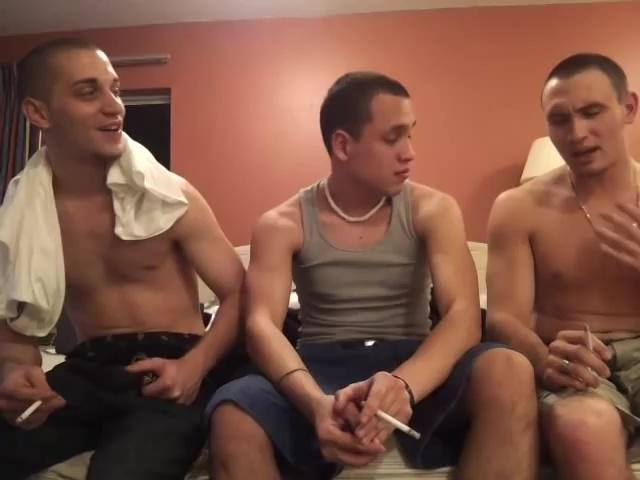cigarette: (372, 409, 426, 440), (11, 399, 46, 428), (581, 321, 598, 354)
